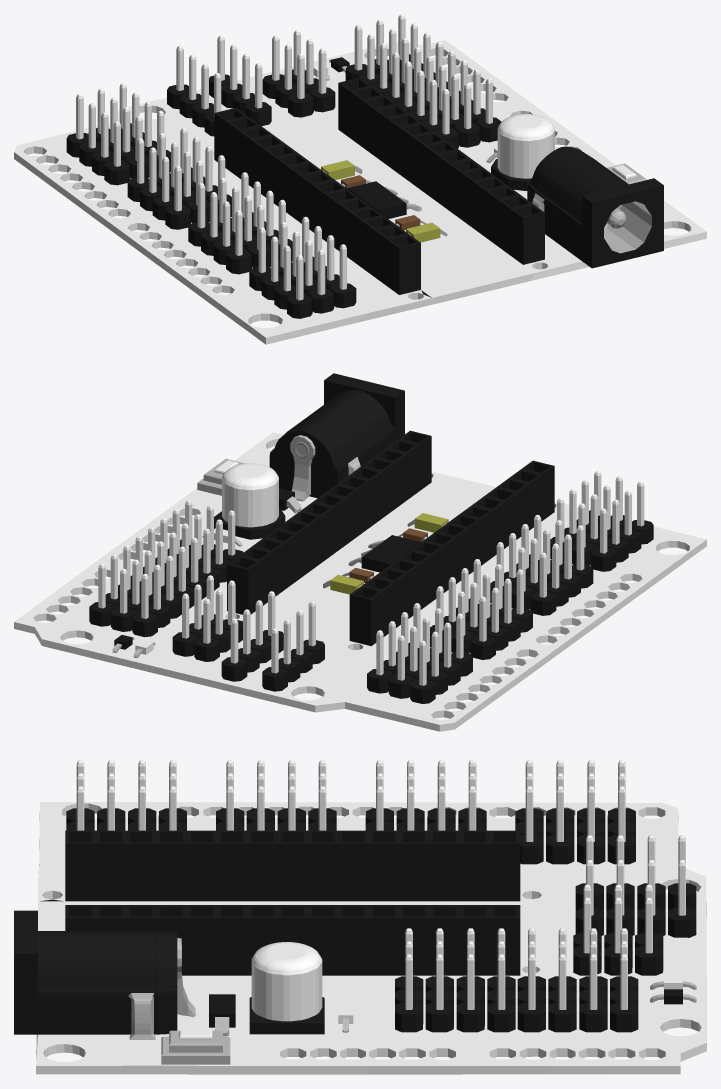
Rendered from arduino nano servo shield.fbx.
3 views of the same model, one above another, from view 1: azimuth 30°, elevation 25°; view 2: azimuth 150°, elevation 25°; view 3: azimuth 270°, elevation 25° (orthographic). The views are drawn at different scales.
Parts seen in each view (by area): view 1: body.498; view 2: body.498; view 3: body.498.
Boxes of the visible parts, <box> form: body.498: <box>14,14,706,344</box>; body.498: <box>14,373,706,731</box>; body.498: <box>14,760,706,1074</box>.
Bounding box in the file's own units: 863 × 136 × 958.
